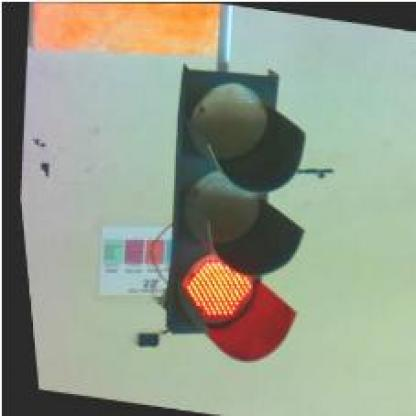red: (135, 55, 330, 366)
